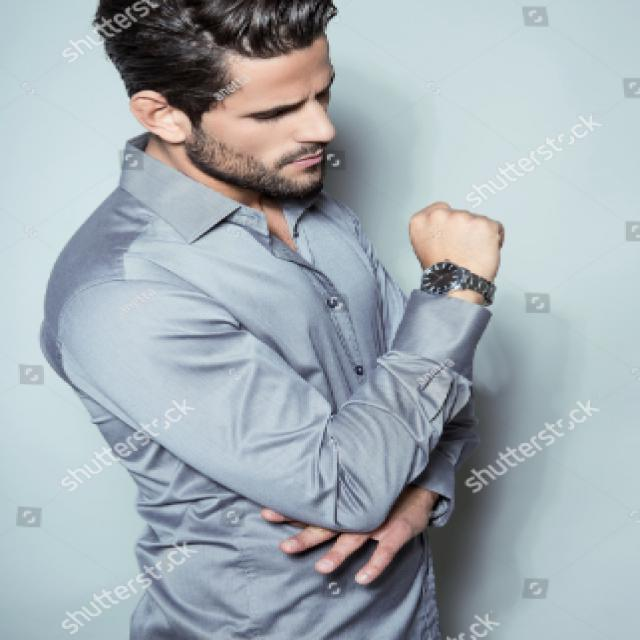Watch: (412, 256, 493, 311)
